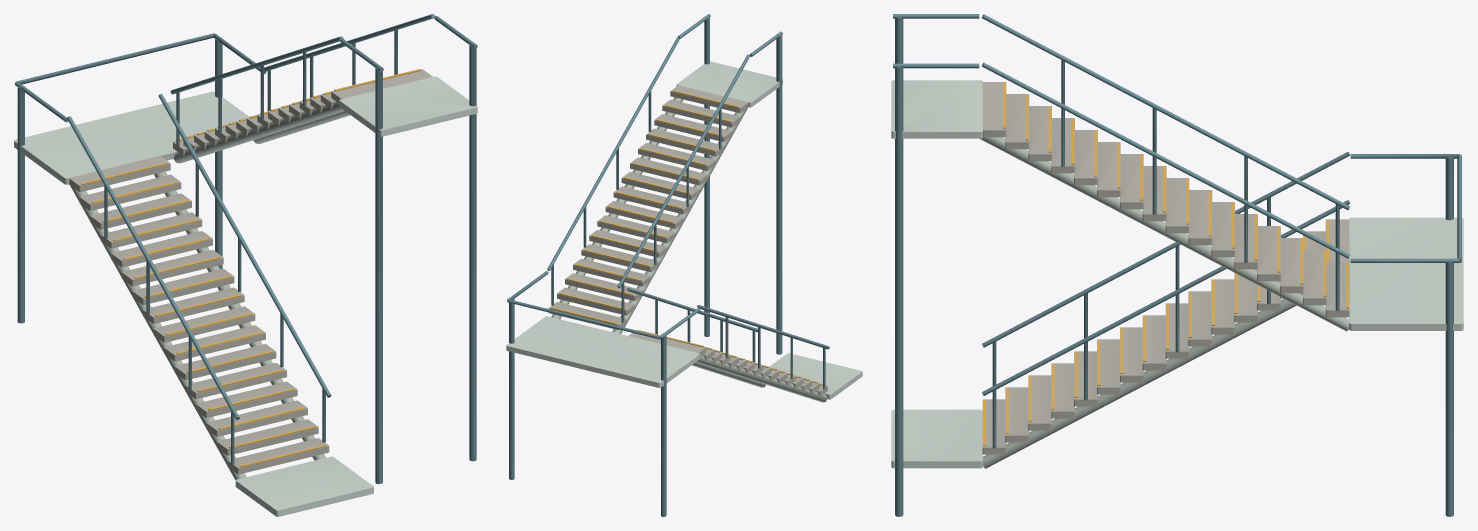
The model's file is station-stairs-low.glb.
The picture shows the model from 3 angles, left to right: view 1: azimuth 30°, elevation 25°; view 2: azimuth 150°, elevation 25°; view 3: azimuth 270°, elevation 25°; orthographic projection. The views are drawn at different scales.
Visible parts, largest first — view 1: non-slip stair tread, ground arrival, stair baluster, contrasting stair nosing; view 2: non-slip stair tread, ground arrival, stair baluster, contrasting stair nosing; view 3: non-slip stair tread, ground arrival, stair baluster, contrasting stair nosing.
Part boxes in pixels (x1,y1,x2,y2): non-slip stair tread: [69, 69, 432, 474]; ground arrival: [14, 76, 477, 516]; stair baluster: [15, 14, 477, 484]; contrasting stair nosing: [81, 69, 420, 467]; non-slip stair tread: [548, 85, 827, 396]; ground arrival: [506, 61, 862, 402]; stair baluster: [507, 14, 829, 516]; contrasting stair nosing: [551, 90, 822, 385]; non-slip stair tread: [982, 82, 1349, 454]; ground arrival: [891, 80, 1463, 468]; stair baluster: [893, 14, 1461, 516]; contrasting stair nosing: [983, 82, 1348, 445].
Size of the model in its own units: 3.35 by 6.71 by 7.5.
